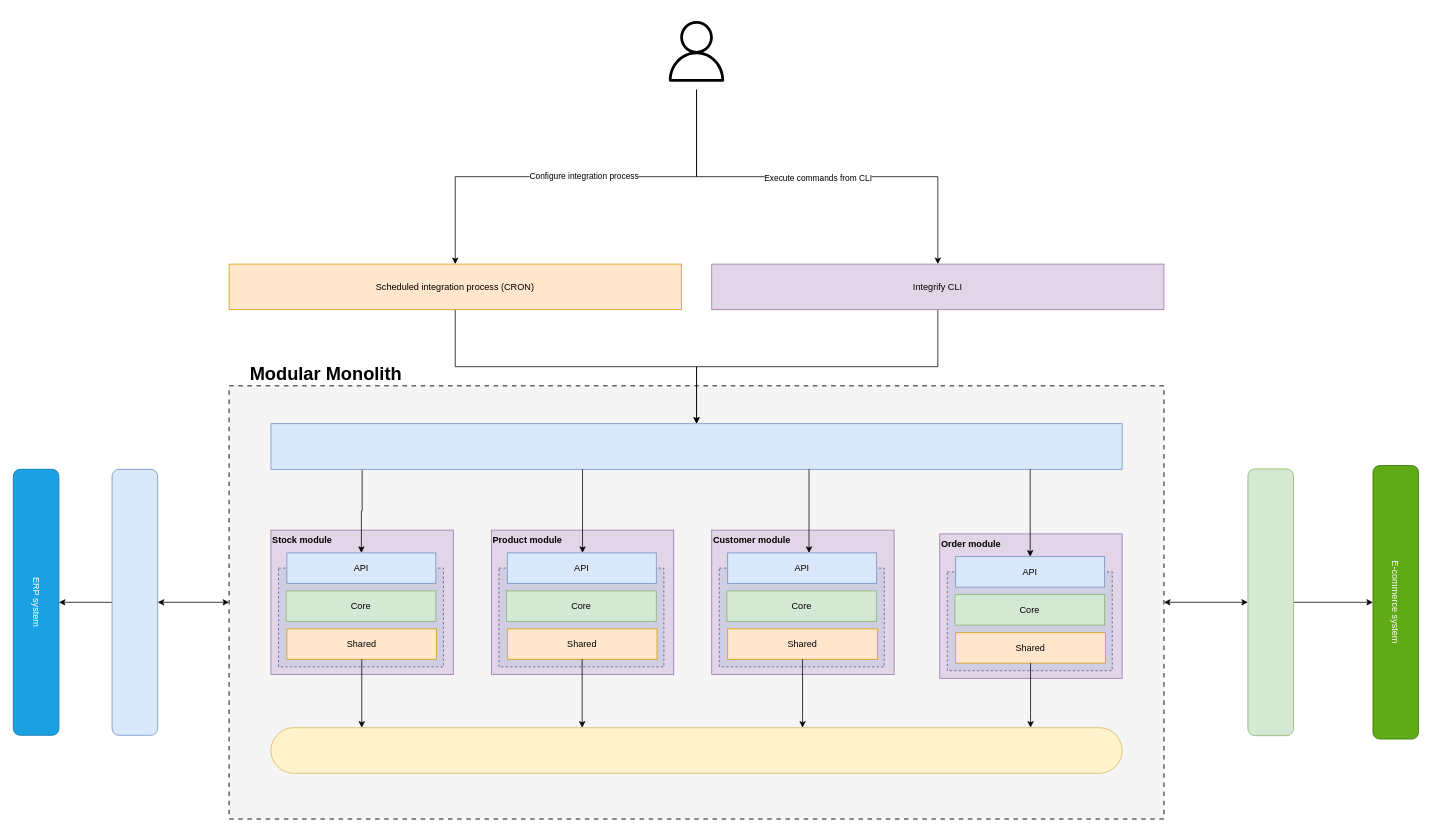
Image size: 1432x833. Some labels were removed from this diagram. Here are the shapes that lost their labels. From the top down, the centre of each, then its label:
At point 696,51: "User".
At point 696,446: "Bootstraper".
At point 134,602: "ERP Plugin".
At point 1270,602: "E-commerce Plugin".
At point 696,750: "In-memory mesage broker".
